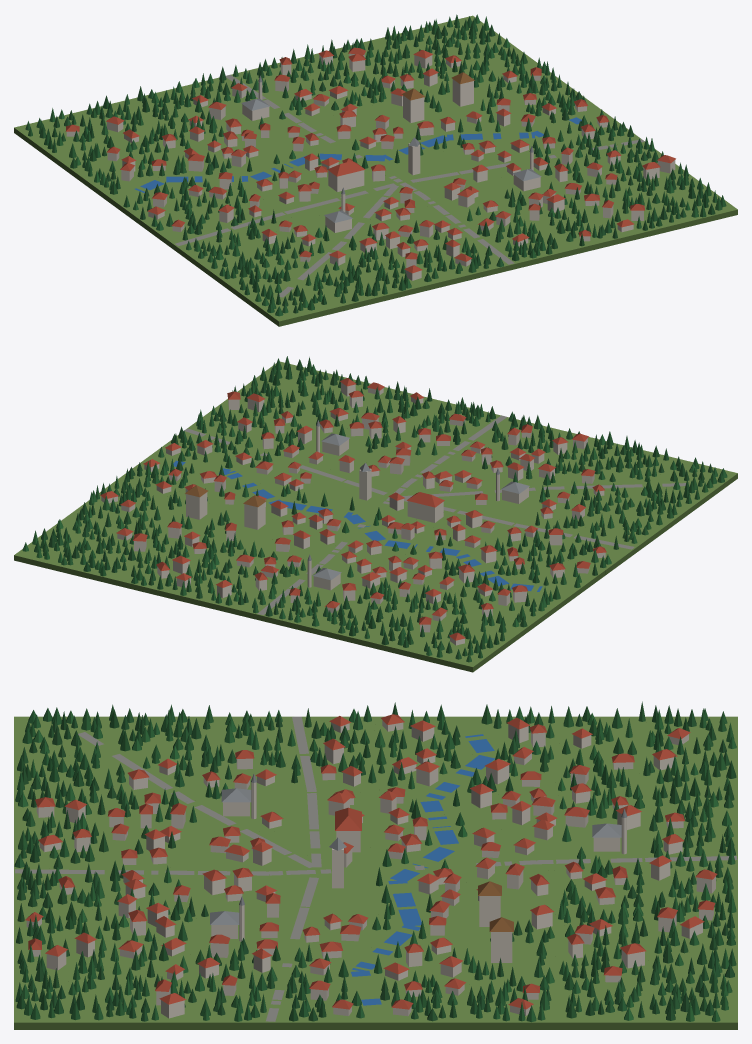
File: pieces.glb
The picture shows the model from 3 angles, top to bottom: view 1: azimuth 30°, elevation 25°; view 2: azimuth 150°, elevation 25°; view 3: azimuth 270°, elevation 25°; orthographic projection. The views are drawn at different scales.
Visible parts, largest first — view 1: A8, E8, G8, D8, A1, H7, C8, H8, B8, E5, D5, H4 (+52 smaller); view 2: A1, F1, D1, C1, F3, H1, B1, H3, B4, H7, F6, E8 (+52 smaller); view 3: H7, H4, H3, H6, H8, H1, H5, E5, H2, B4, F1, G3 (+52 smaller).
Boxes of the visible parts, x1,y1,x2,y2 form: A8: (246, 282, 336, 326); E8: (473, 219, 566, 270); G8: (589, 192, 680, 242); D8: (421, 235, 508, 284); A1: (14, 108, 106, 156); H7: (613, 155, 704, 199); C8: (362, 249, 450, 298); H8: (644, 178, 737, 228); B8: (301, 264, 393, 312); E5: (385, 137, 464, 193); D5: (319, 161, 409, 204); H4: (511, 82, 604, 128); A1: (415, 618, 505, 672); F1: (128, 551, 216, 602); D1: (243, 581, 331, 630); C1: (301, 592, 391, 644); F3: (194, 495, 283, 547); H1: (14, 527, 102, 574); B1: (358, 609, 449, 658); H3: (80, 476, 169, 520); B4: (460, 533, 552, 579); H7: (214, 381, 305, 423); F6: (295, 420, 383, 476); E8: (413, 397, 508, 442); H7: (83, 958, 215, 1029); H4: (350, 970, 469, 1029); H3: (443, 967, 576, 1029); H6: (192, 960, 285, 1029); H8: (14, 968, 105, 1029); H1: (646, 971, 737, 1029); H5: (260, 973, 375, 1029); E5: (261, 837, 401, 917); H2: (557, 972, 668, 1029); B4: (358, 735, 485, 801); F1: (627, 890, 737, 955); G3: (452, 917, 580, 984).
Size of the model in its own units: 270 by 23 by 270.
